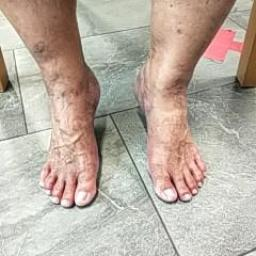Dorsal View -Both Feet-: (14, 49, 233, 229)
